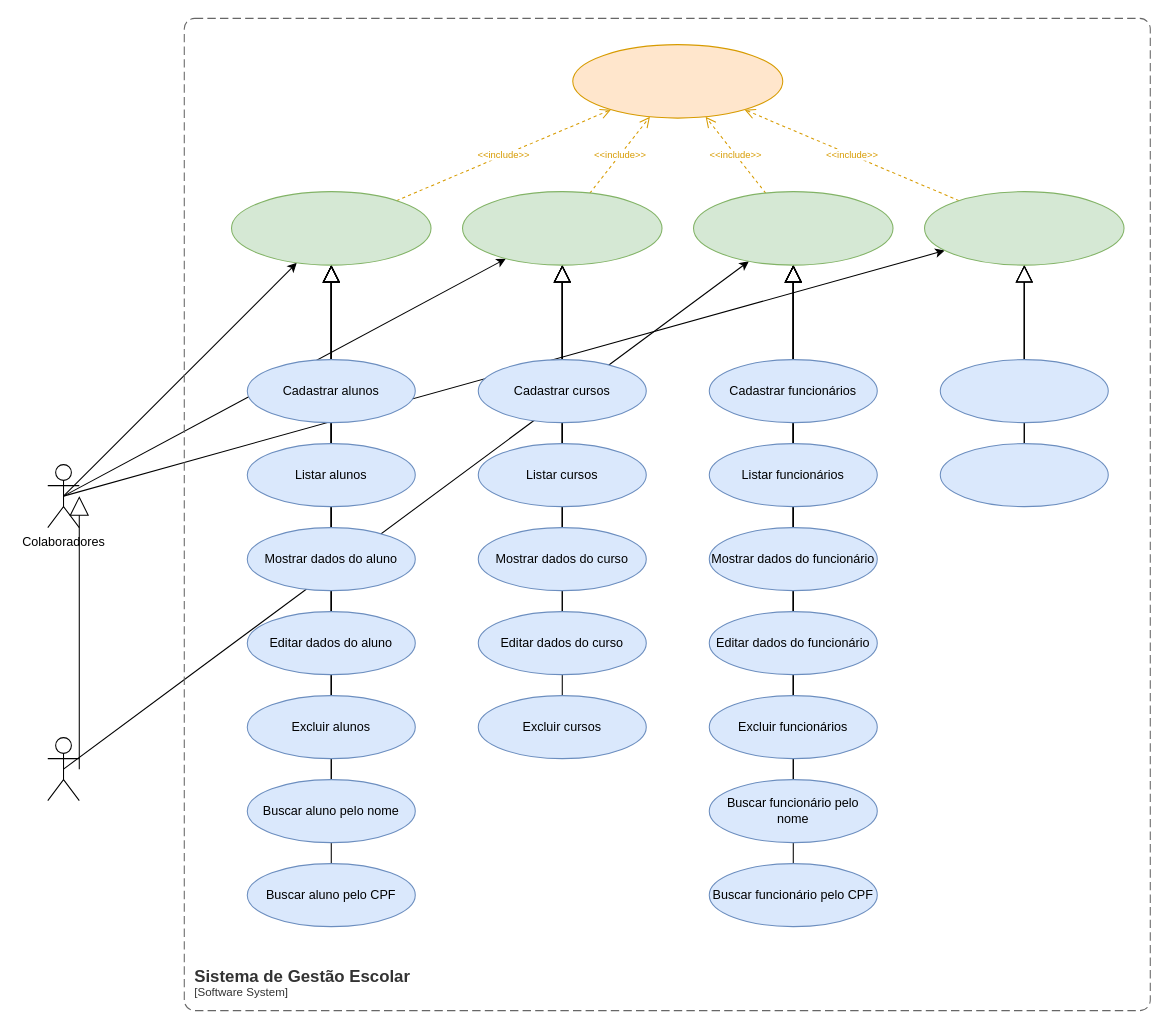
Some shapes in this 1169 by 1029 pixel diagram are drawn without their labels. The shapes that lost their labels are listed below. From the top down, each one's centre as x and y in pixels, then its label:
the point at 677,81: Login de usuários
the point at 330,228: Gerenciar alunos
the point at 561,228: Gerenciar cursos
the point at 792,228: Gerenciar funcionários
the point at 1023,228: Gerenciar matrículas
the point at 1023,391: Realizar matrículas
the point at 1023,475: Excluir matrículas
the point at 63,769: Administradores
